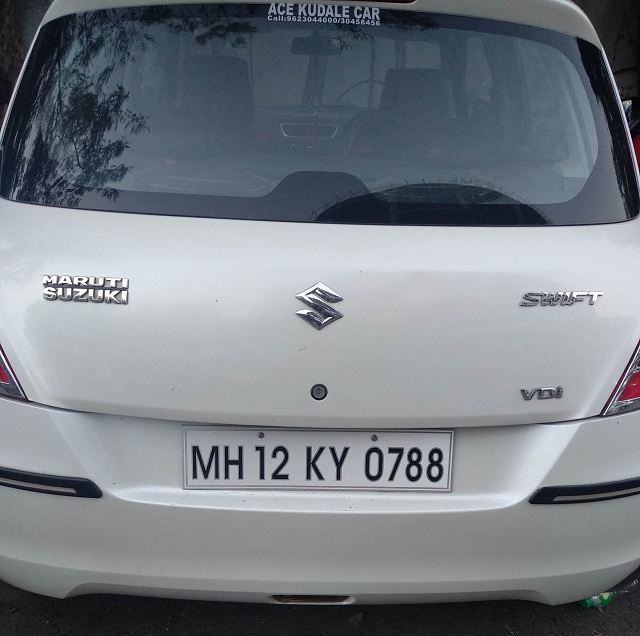licenseplate: (181, 421, 455, 491)
